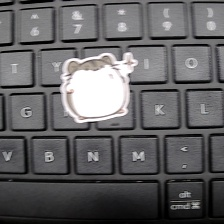mouse: (59, 49, 138, 125)
